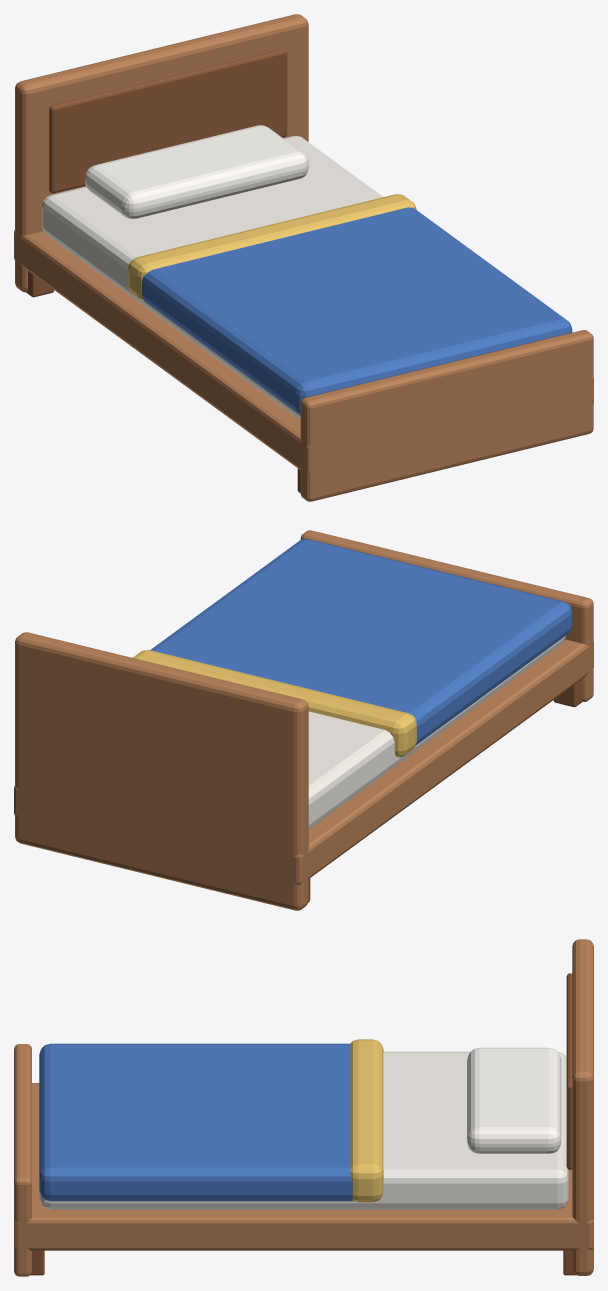
File: customBed.glb
3 renders of one model, top to bottom at view 1: azimuth 30°, elevation 25°; view 2: azimuth 150°, elevation 25°; view 3: azimuth 270°, elevation 25°, orthographic.
Parts seen in each view (by area): view 1: Blanket, Footboard, Frame, HeadboardPanel, Mattress, Headboard, Pillow, BlanketFold; view 2: Headboard, Blanket, Frame, Mattress, BlanketFold, Footboard; view 3: Blanket, Frame, Mattress, Pillow, Headboard, BlanketFold, Footboard, HeadboardPanel.
Boxes of the visible parts, x1,y1,x2,y2 form: Blanket: (141, 207, 572, 414); Footboard: (300, 330, 593, 501); Frame: (14, 230, 593, 474); HeadboardPanel: (49, 49, 287, 193); Mattress: (42, 136, 382, 420); Headboard: (15, 14, 308, 292); Pillow: (85, 125, 308, 218); BlanketFold: (128, 194, 416, 301); Headboard: (15, 632, 308, 910); Blanket: (150, 539, 572, 744); Frame: (14, 639, 593, 884); Mattress: (308, 636, 565, 828); BlanketFold: (133, 650, 416, 757); Footboard: (300, 530, 593, 701); Blanket: (39, 1043, 353, 1201); Frame: (14, 1083, 593, 1250); Mattress: (39, 1051, 568, 1209); Pillow: (467, 1047, 561, 1153); Headboard: (572, 939, 593, 1275); BlanketFold: (350, 1039, 383, 1202); Footboard: (14, 1044, 31, 1276); HeadboardPanel: (566, 973, 572, 1169).
Size of the model in its own units: 0.9 by 0.62 by 1.6.
